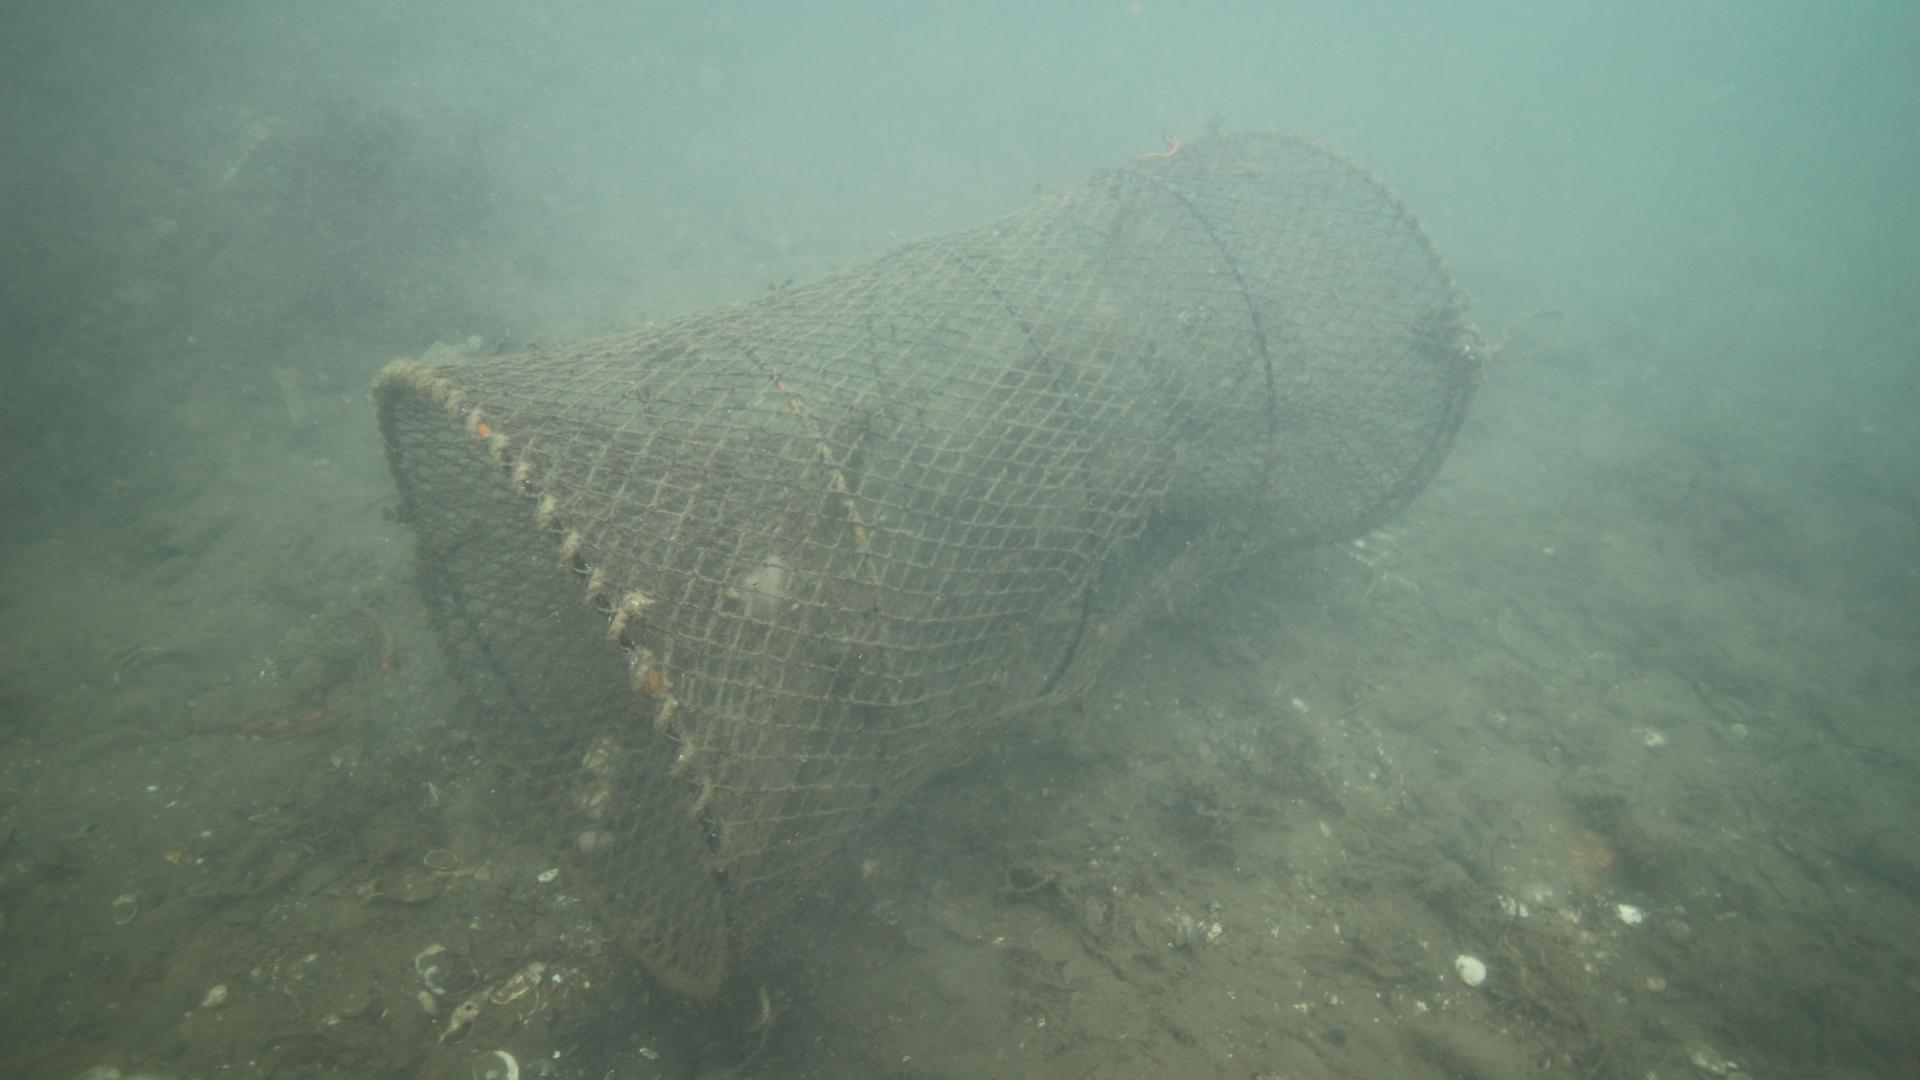spring fish trap: (368, 117, 1474, 1011)
